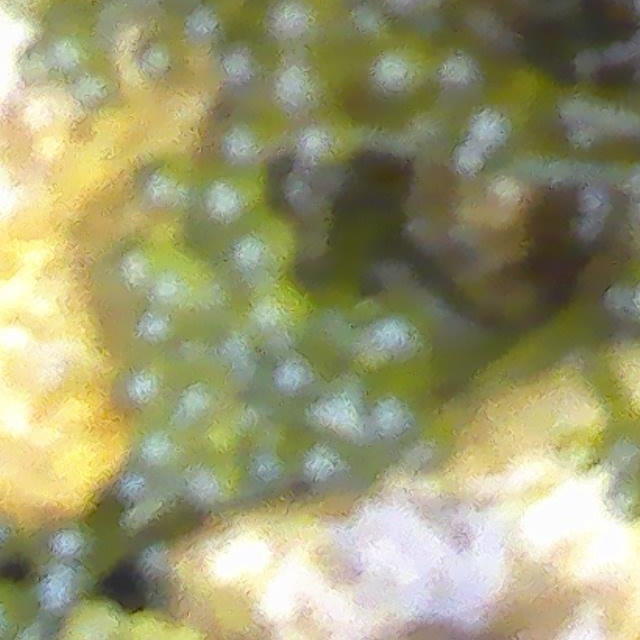SeaGrape: (352, 297, 439, 387), (198, 163, 271, 233), (224, 214, 294, 284), (245, 293, 316, 359), (269, 62, 344, 122), (271, 0, 347, 59), (286, 118, 361, 172), (167, 376, 228, 439), (116, 358, 180, 414), (153, 262, 213, 321), (216, 114, 278, 168)
